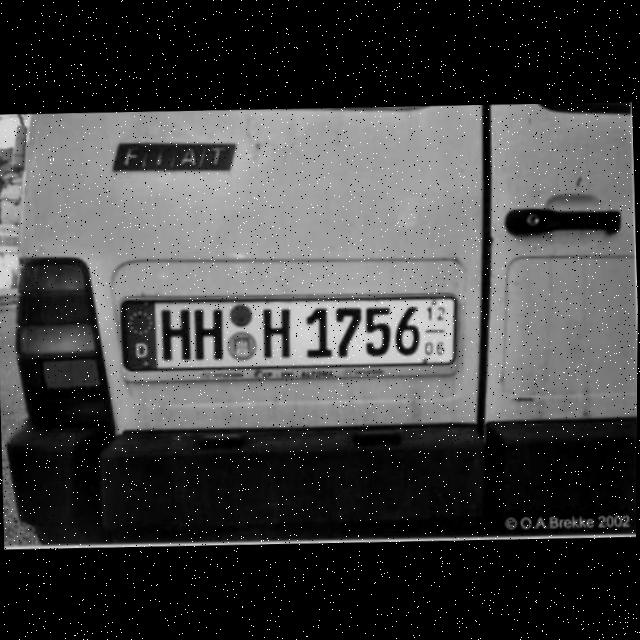license-plates: (121, 298, 456, 372)
